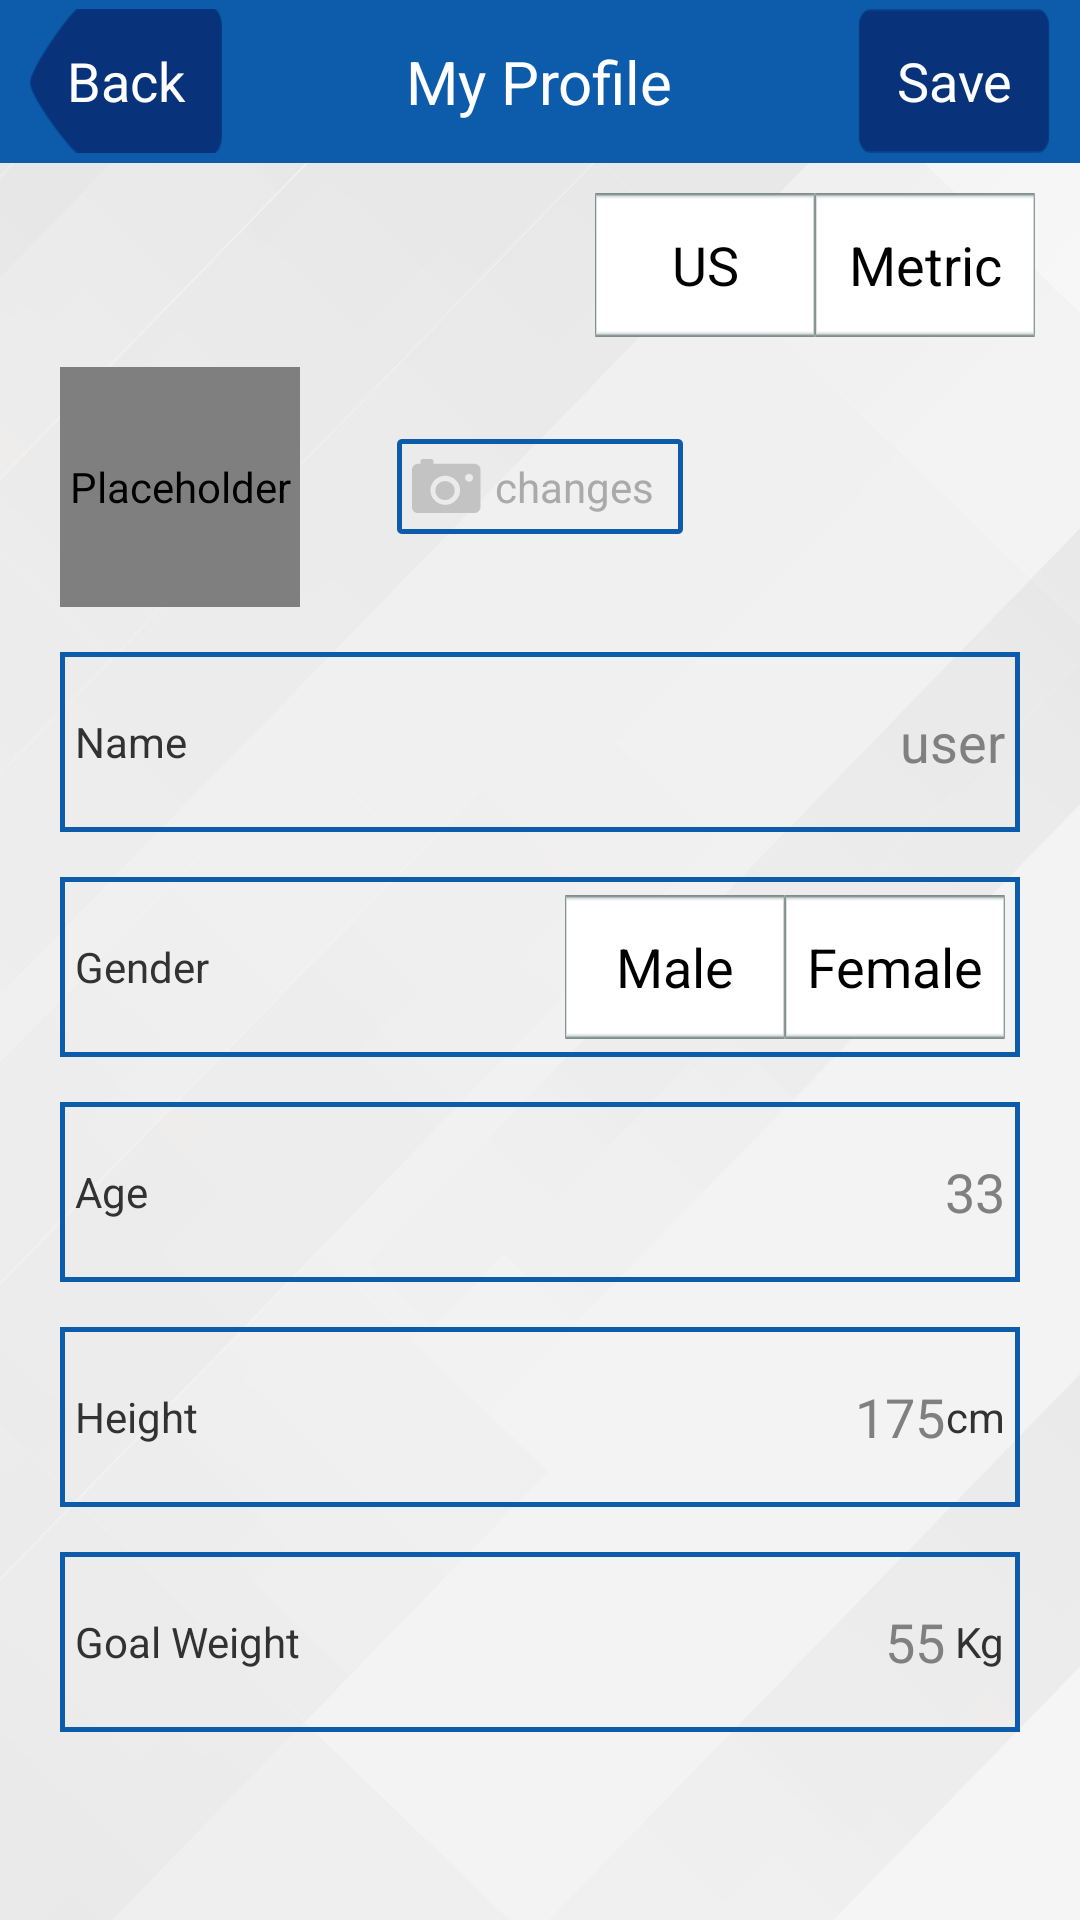

Where to tap for icons on this 1080px×1920px app screen, as (x=x, y=y):
carmer: (x=446, y=486)
